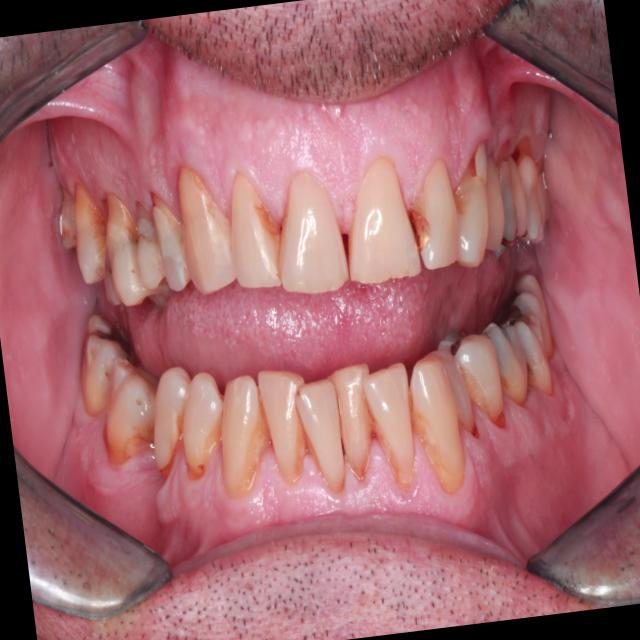tooth: (329, 145, 428, 294), (258, 161, 358, 304), (399, 340, 473, 504), (167, 153, 245, 302), (216, 156, 292, 301), (205, 361, 282, 504), (88, 346, 172, 474), (440, 125, 506, 278), (252, 354, 321, 498), (68, 306, 148, 424), (434, 322, 512, 443), (357, 356, 423, 498), (290, 364, 356, 503), (322, 356, 387, 493), (138, 358, 207, 487), (398, 148, 467, 275), (85, 184, 151, 316), (169, 363, 236, 486), (62, 172, 120, 293), (494, 267, 559, 369), (143, 176, 196, 300), (497, 302, 559, 406), (426, 338, 480, 450), (479, 314, 535, 413), (491, 132, 534, 252), (124, 187, 171, 294), (511, 131, 549, 253), (469, 143, 510, 256), (53, 178, 87, 253), (529, 154, 558, 232)
